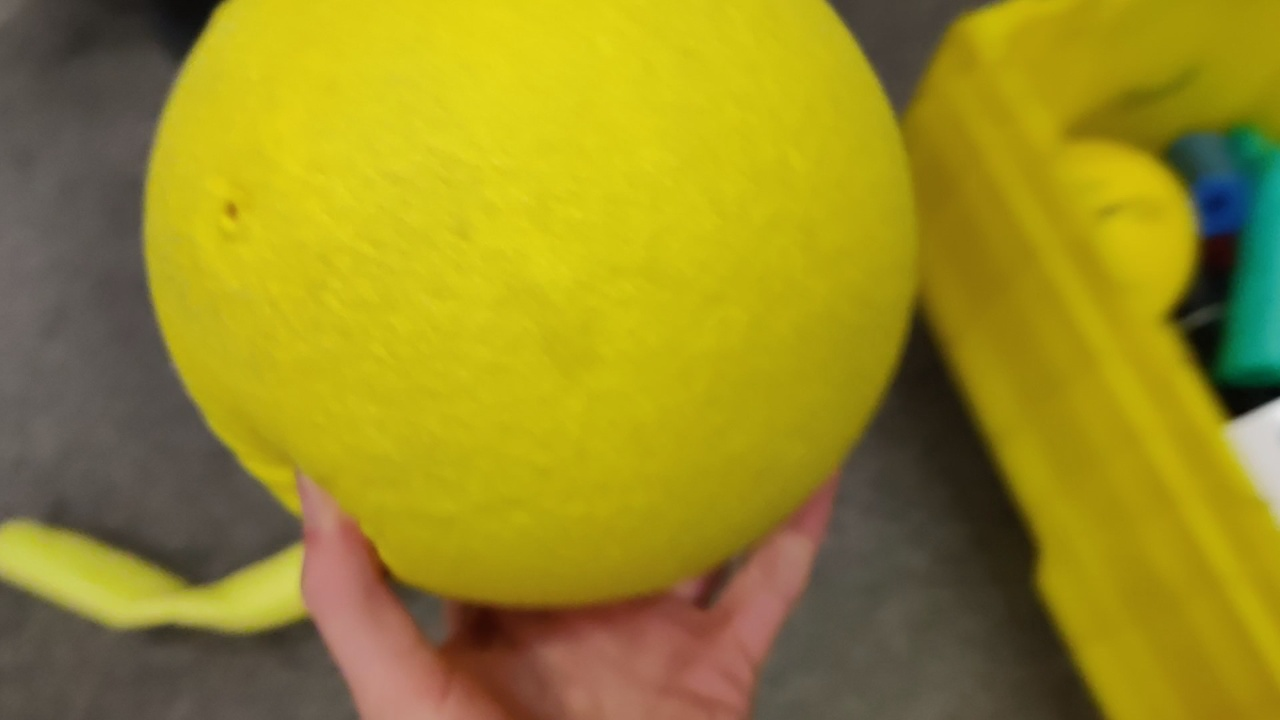Ball: (135, 4, 915, 603)
